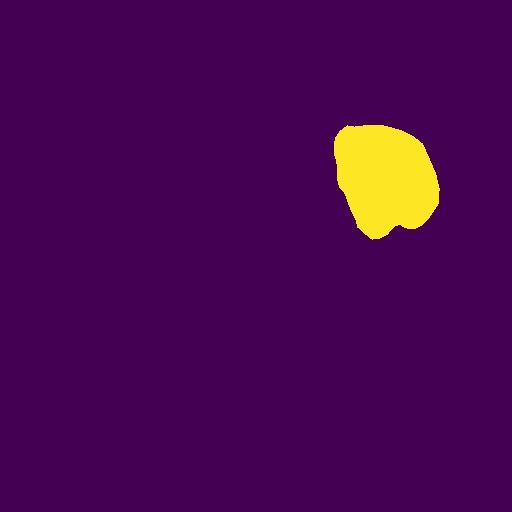Menigiomia_tumour: (334, 125, 440, 240)
